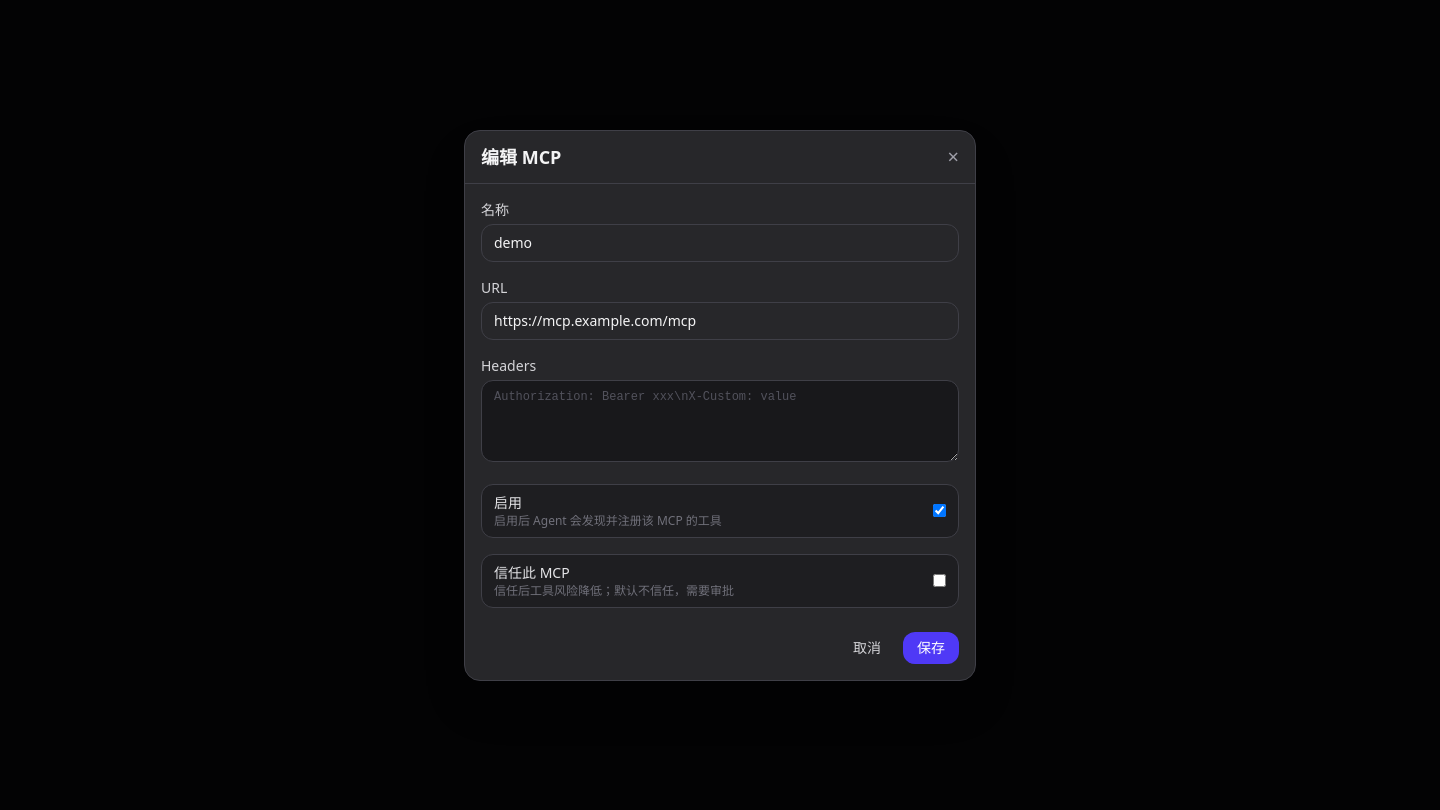
Test case: 保存失败的错误文案 › 普通 Error 仍取 message
Click the button "保存": (931, 648) left=903, top=632, right=959, bottom=664
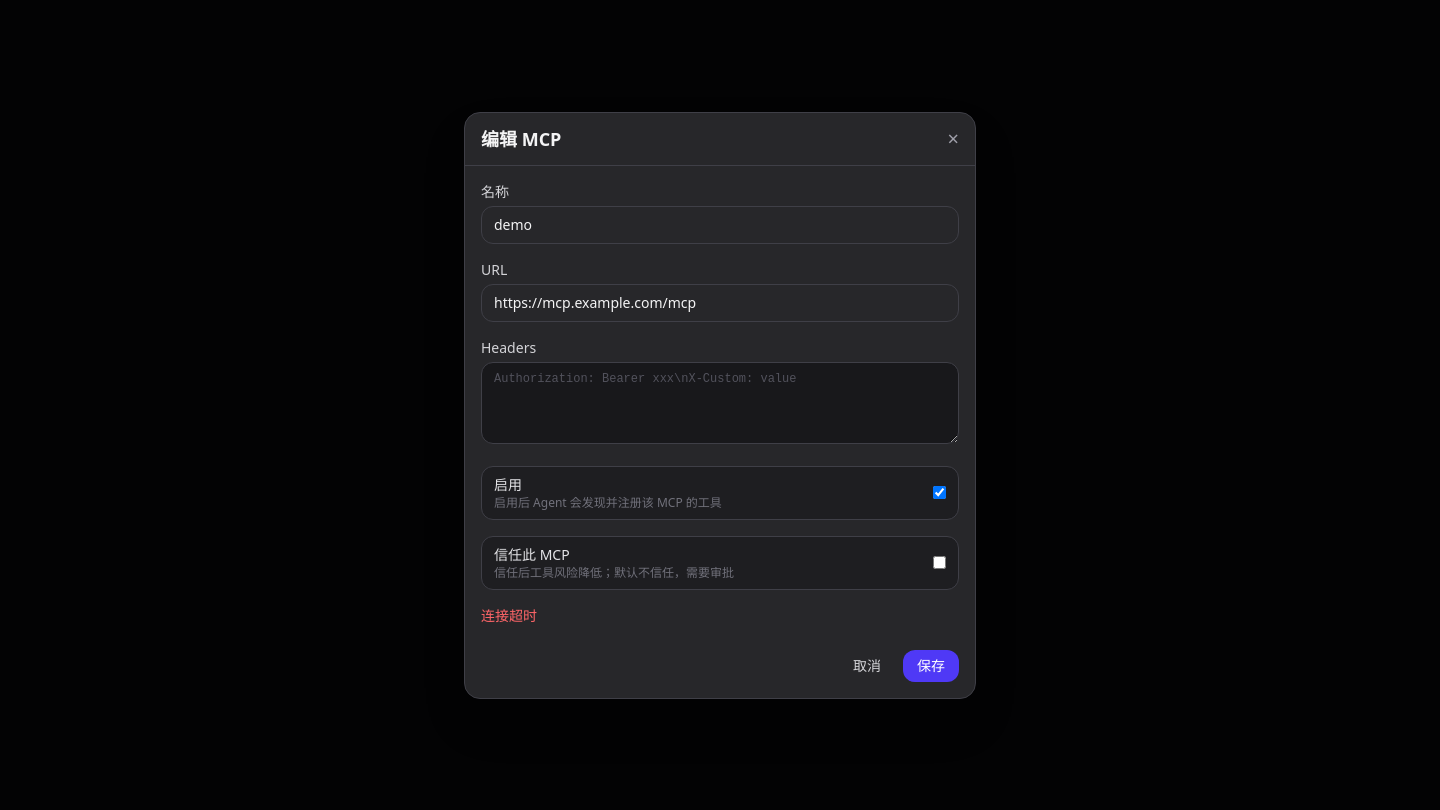
Expected: the text "连接超时" is shown, left=481, top=606, right=537, bottom=624
